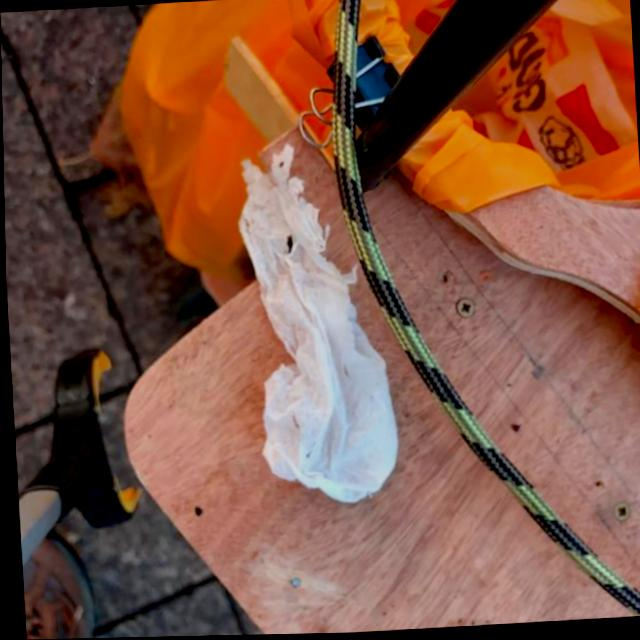Paper: (232, 136, 401, 512)
